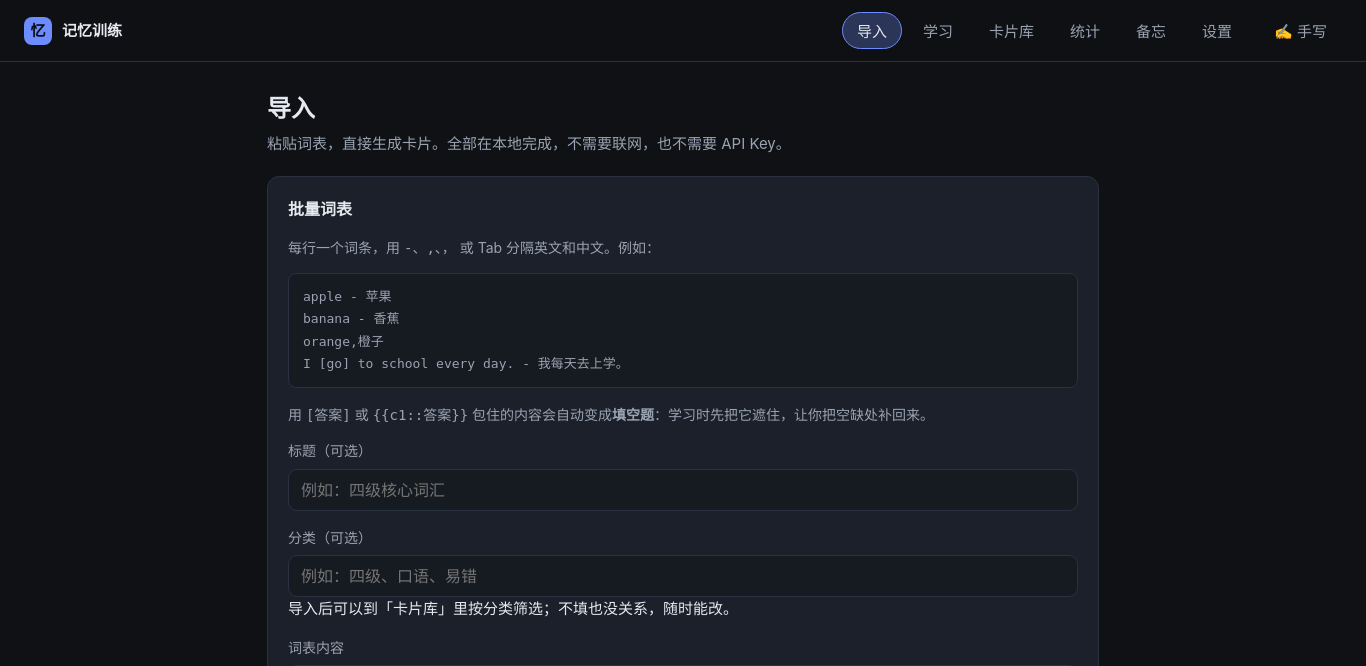
Test: 按分类学习 › 没有到期卡片时不显示分类选择器
Expected: the heading "导入" is shown, [267, 94, 315, 123]
Click the button "学习".
click(938, 30)  # box [908, 12, 968, 49]
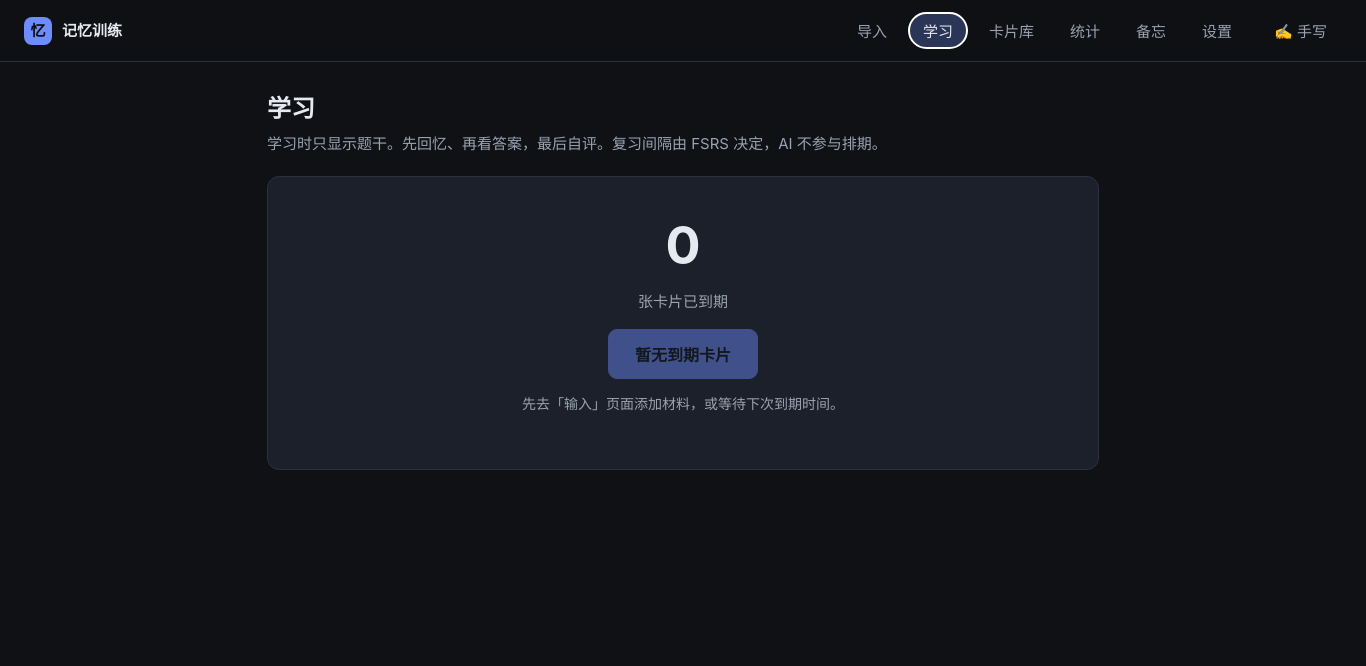
Now the heading "学习" is shown, box [267, 94, 315, 123]
Now the button "暂无到期卡片" is shown, box [608, 329, 758, 379]
